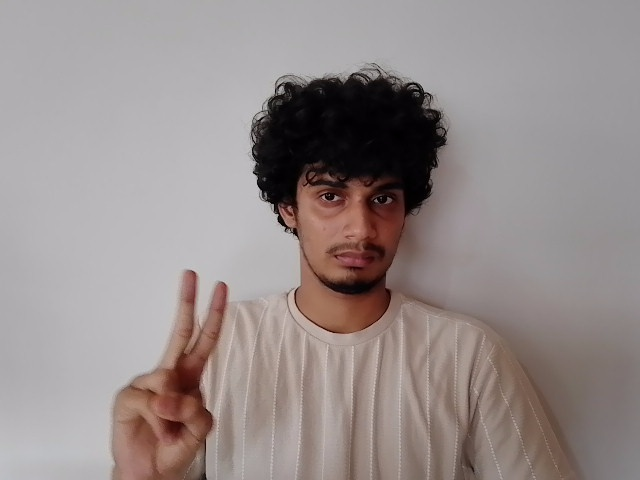travel: (102, 268, 236, 478)
